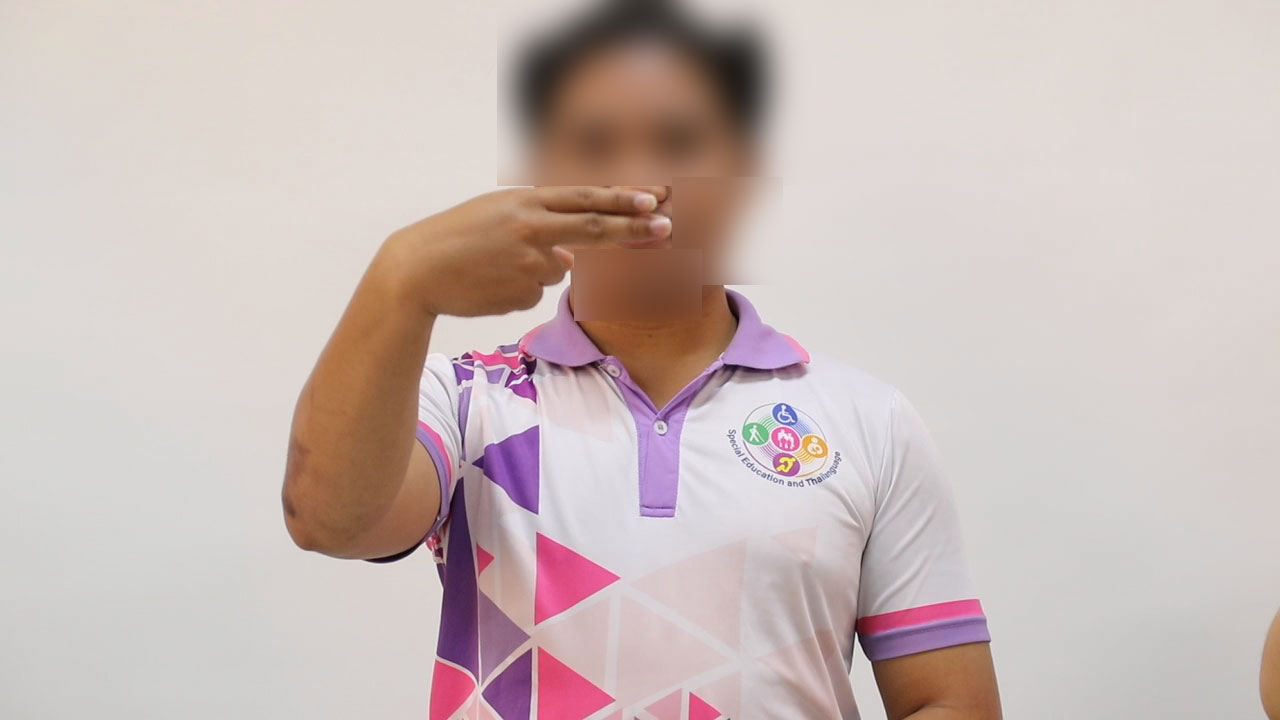hor: (375, 178, 684, 331)
